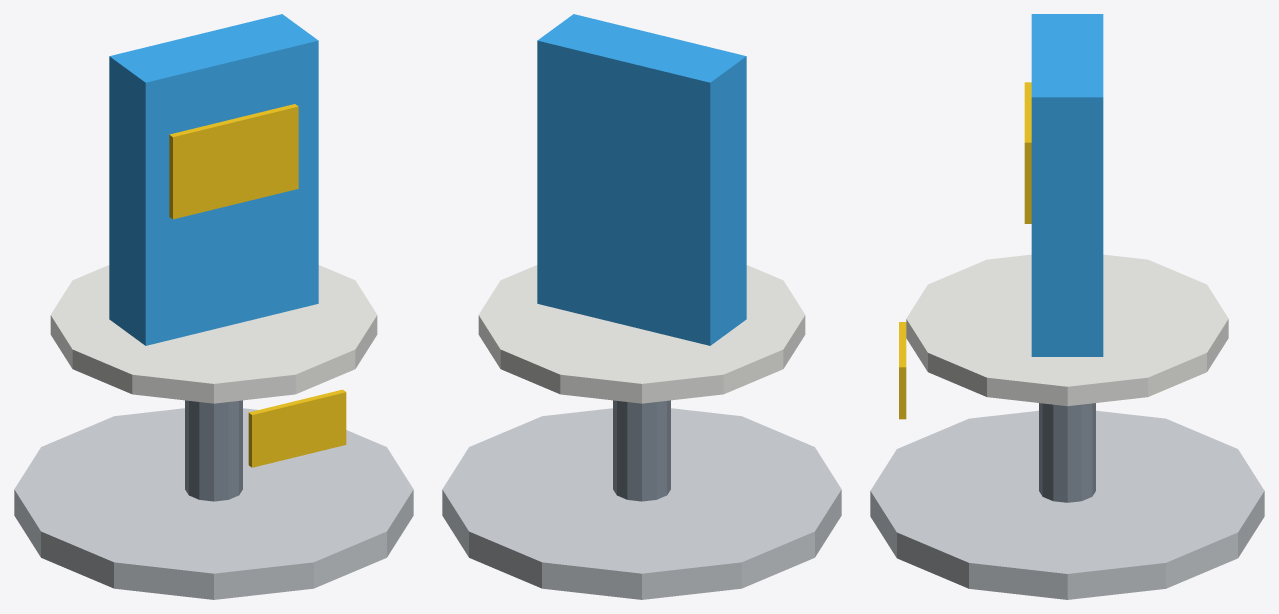
The model's file is item-cereal.glb.
3 renders of one model, left to right at view 1: azimuth 30°, elevation 25°; view 2: azimuth 150°, elevation 25°; view 3: azimuth 270°, elevation 25°, orthographic.
Visible parts, largest first — view 1: item-cereal; view 2: item-cereal; view 3: item-cereal.
Part boxes in pixels (box(x1,y1,x2,y2)): item-cereal: box(14, 14, 413, 599); item-cereal: box(442, 14, 841, 599); item-cereal: box(870, 14, 1264, 599).
Size of the model in its own units: 1.1 by 1.42 by 1.1.
